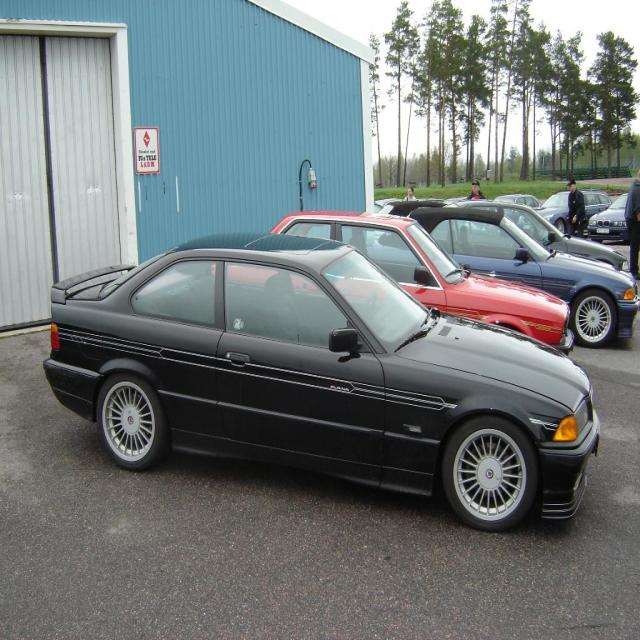car: (46, 225, 610, 534)
